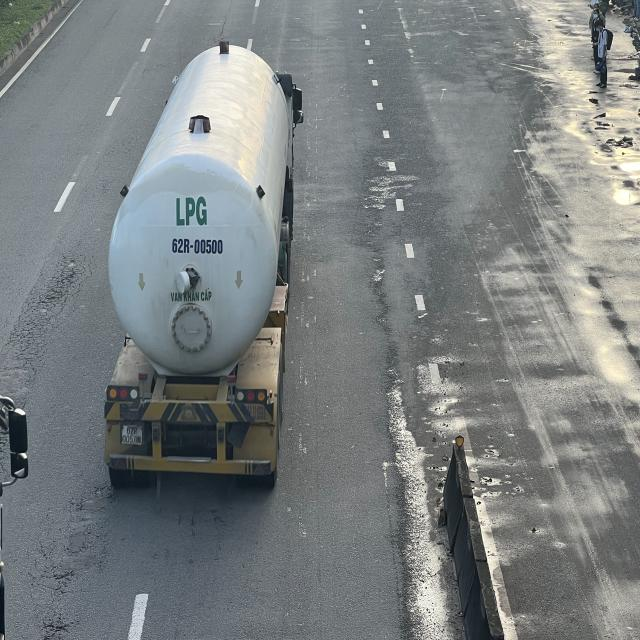container: (111, 45, 306, 487)
